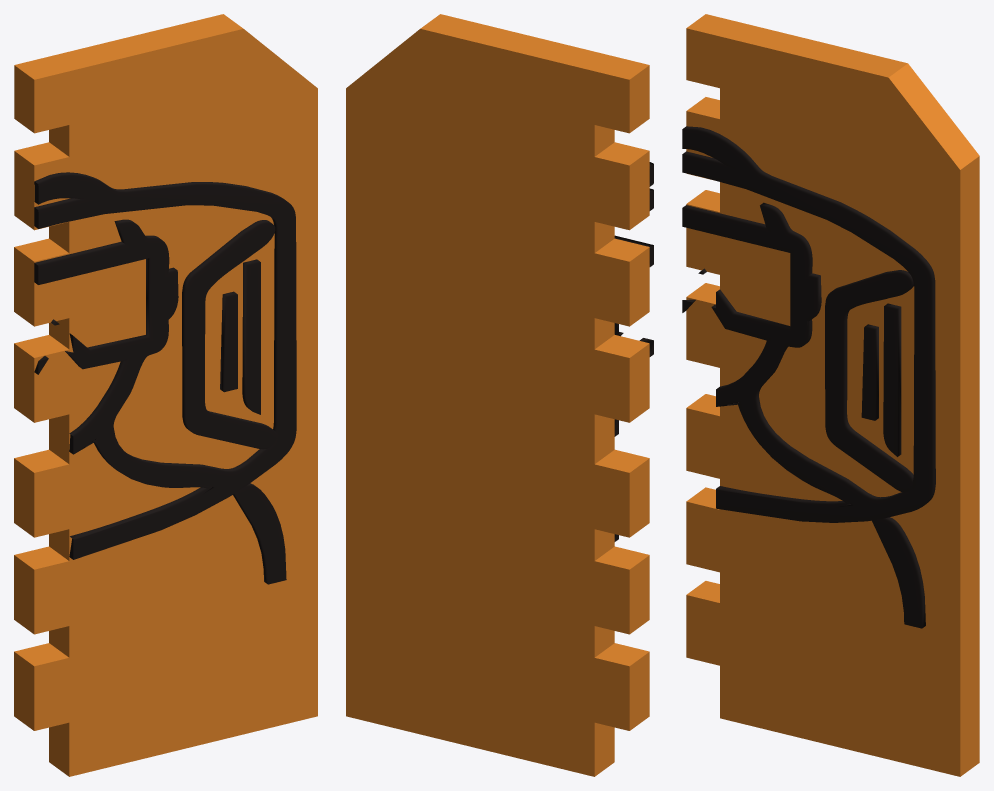
The model's file is DoorV5Right.glb.
The picture shows the model from 3 angles, left to right: view 1: azimuth 30°, elevation 25°; view 2: azimuth 150°, elevation 25°; view 3: azimuth 330°, elevation 25°; orthographic projection. The views are drawn at different scales.
Parts seen in each view (by area): view 1: RightDoor, RightDoorLogo; view 2: RightDoor, RightDoorLogo; view 3: RightDoor, RightDoorLogo.
Part boxes in pixels (x1,y1,x2,y2): RightDoor: (14,14,317,776); RightDoorLogo: (34,172,296,584); RightDoor: (346,14,649,776); RightDoorLogo: (614,162,653,541); RightDoor: (686,14,979,776); RightDoorLogo: (682,126,935,628).
Size of the model in its own units: 0.8117 by 1.93 by 0.1205.
